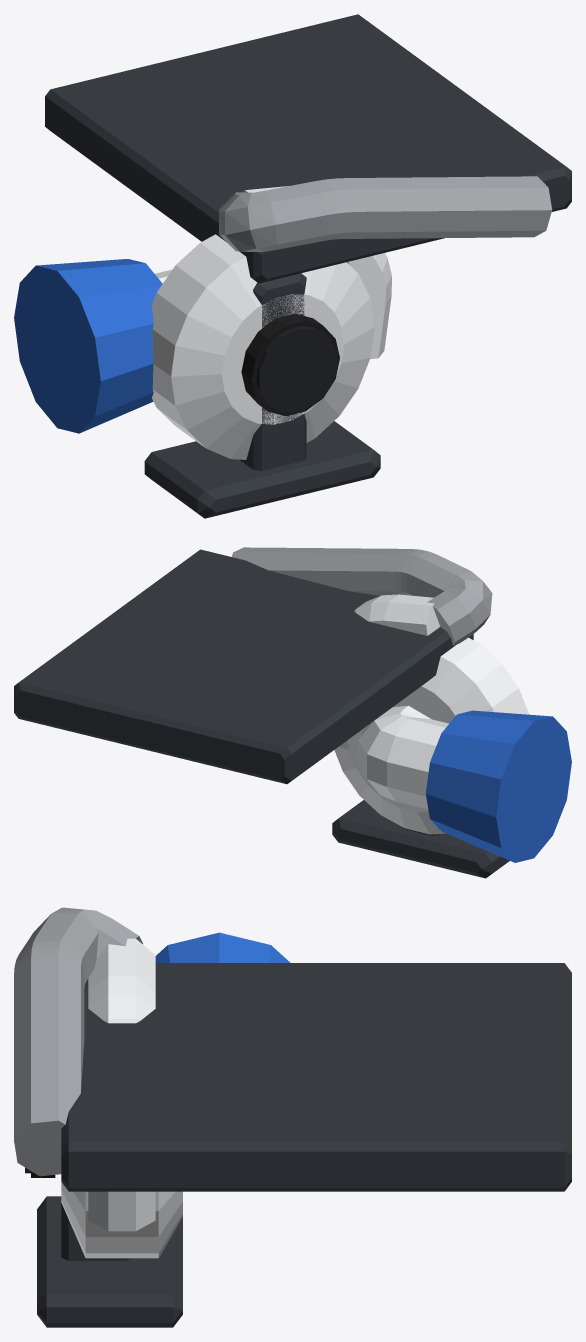
Rendered from supercharger_centrifugal.glb.
3 renders of one model, top to bottom at view 1: azimuth 30°, elevation 25°; view 2: azimuth 150°, elevation 25°; view 3: azimuth 270°, elevation 25°, orthographic. The views are drawn at different scales.
Visible parts, largest first — view 1: model; view 2: model; view 3: model.
Boxes of the visible parts, x1,y1,x2,y2 form: model: (14, 14, 571, 518); model: (14, 547, 571, 878); model: (14, 907, 571, 1327).
Bounding box in the file's own units: 0.51 × 0.3283 × 0.4589.
4 materials, 1 textured.
